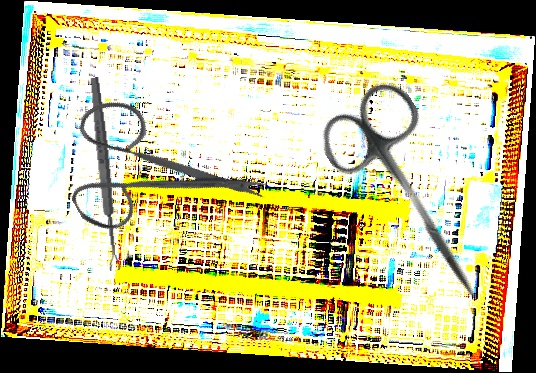Iris Scissors: (308, 73, 522, 325), (37, 52, 273, 280)
Surgical Spoon: (87, 76, 122, 272)
